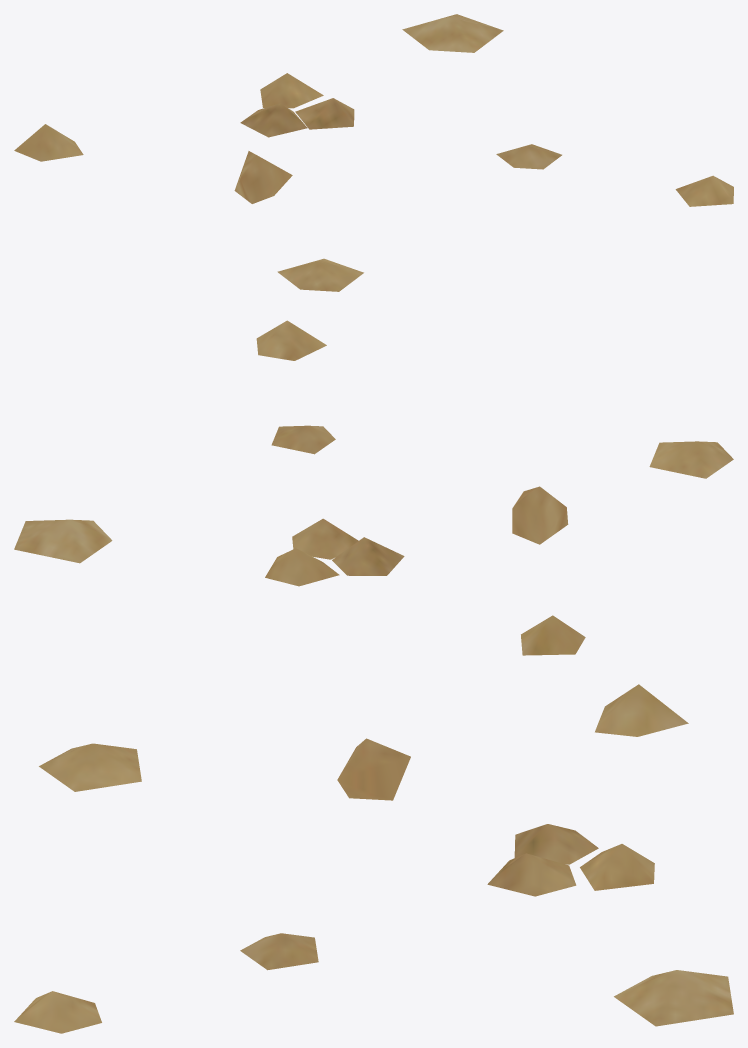
The model's file is rock_dfield1.glb.
3 views of the same model, one above another, from view 1: azimuth 30°, elevation 25°; view 2: azimuth 150°, elevation 25°; view 3: azimuth 270°, elevation 25° (orthographic). The views are drawn at different scales.
Visible parts, largest first — view 1: Rock_GField1; view 2: Rock_GField1; view 3: Rock_GField1.
Part boxes in pixels (left/top/right/bottom): Rock_GField1: left=14, top=14, right=733, bottom=291; Rock_GField1: left=14, top=320, right=733, bottom=655; Rock_GField1: left=14, top=684, right=733, bottom=1033.
Bounding box in the file's own units: 22.29 × 1.74 × 20.31.
Materials: 1 (1 with a texture image).
